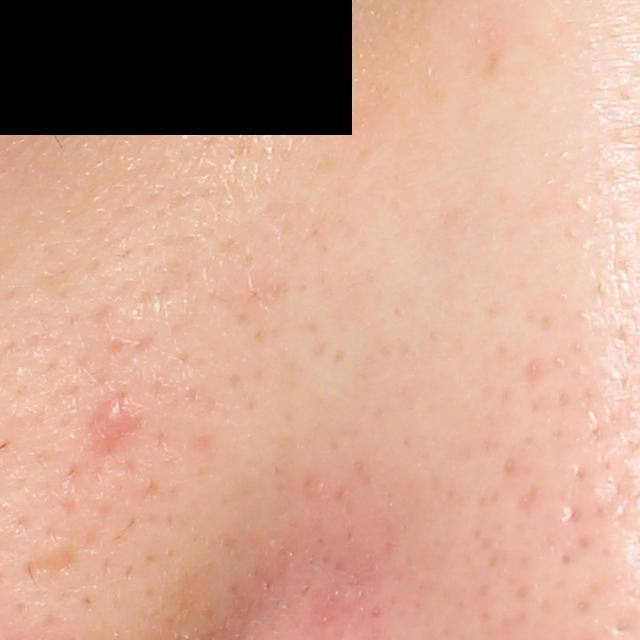atrophic_scar: (5, 540, 86, 589)
pustule: (92, 397, 136, 439)
